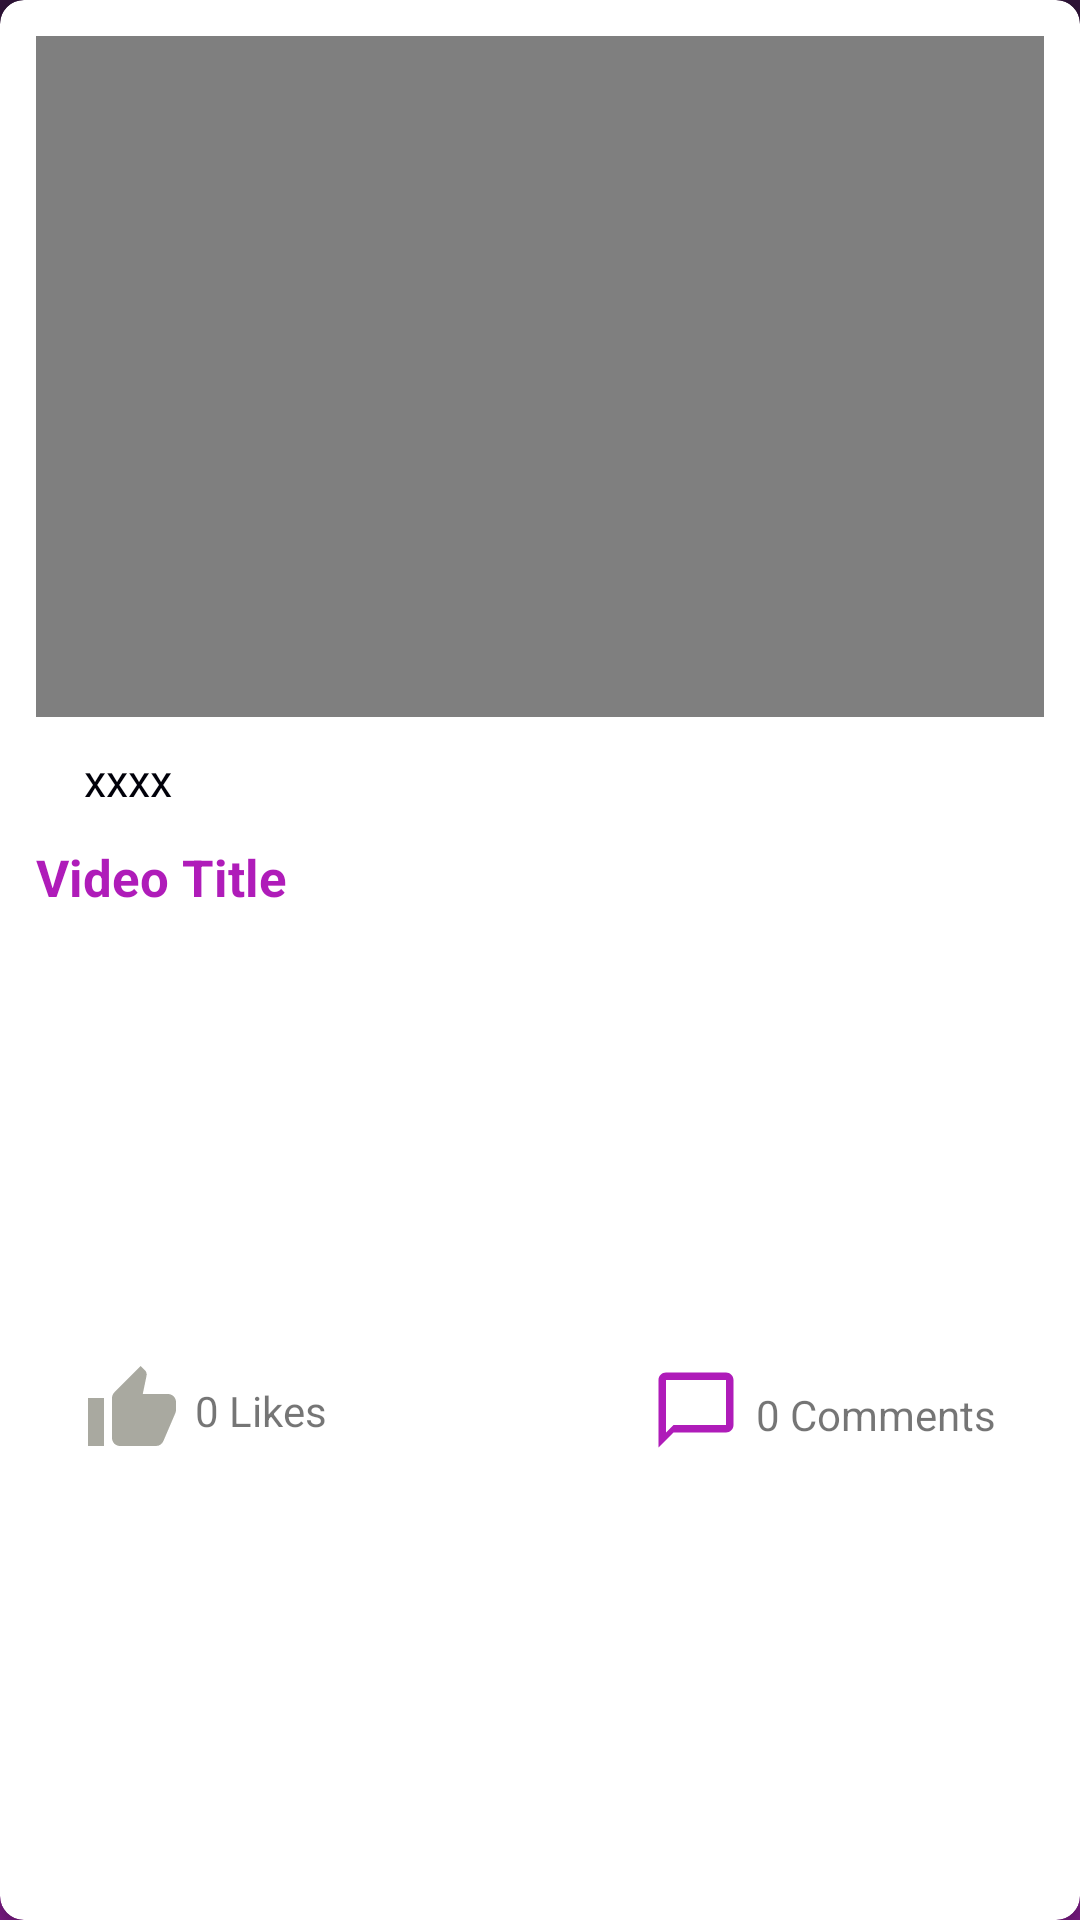

Icon bounding boxes for this 1080px x 1920px phone screenshot, format (x1, y1, x2, y2):
like off: (88, 1366, 176, 1446)
